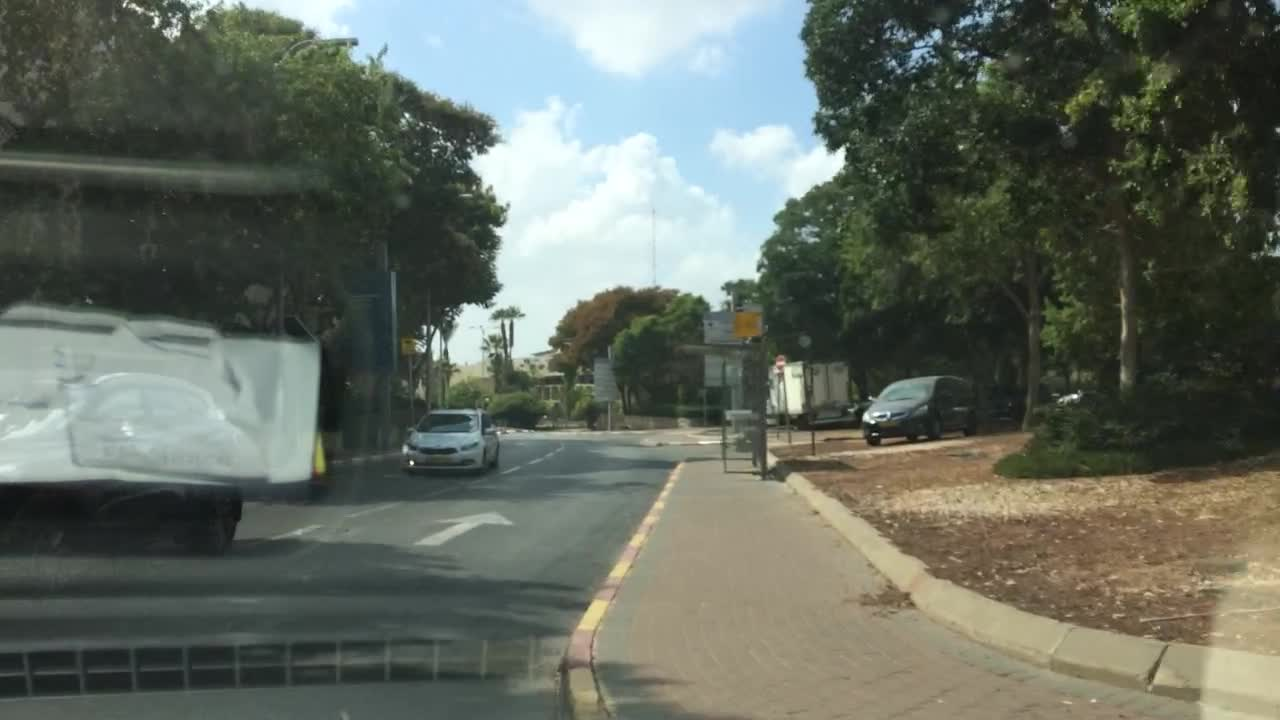car: (0, 372, 247, 589), (859, 374, 977, 449), (400, 405, 503, 476), (1036, 381, 1100, 415), (845, 388, 874, 418)
traffic sign: (703, 354, 746, 388), (702, 312, 739, 342), (732, 305, 761, 337)
truck: (764, 361, 852, 428)
